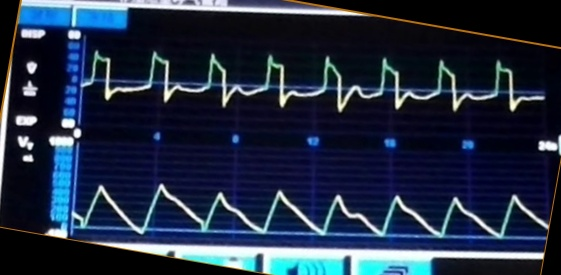Premature_cycling Flow: (85, 48, 544, 124)
Premature_cycling Volume: (76, 177, 544, 240)
